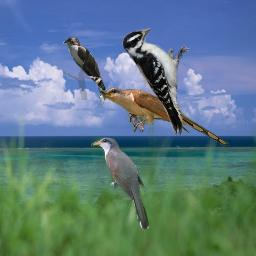Cuckoo: (96, 87, 229, 146), (91, 136, 151, 231), (63, 37, 111, 100)
Woodpecker: (122, 28, 191, 136)
